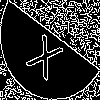X: (25, 25, 69, 82)
